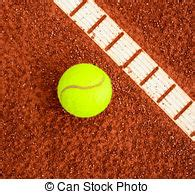tennis_ball: (56, 63, 112, 118)
